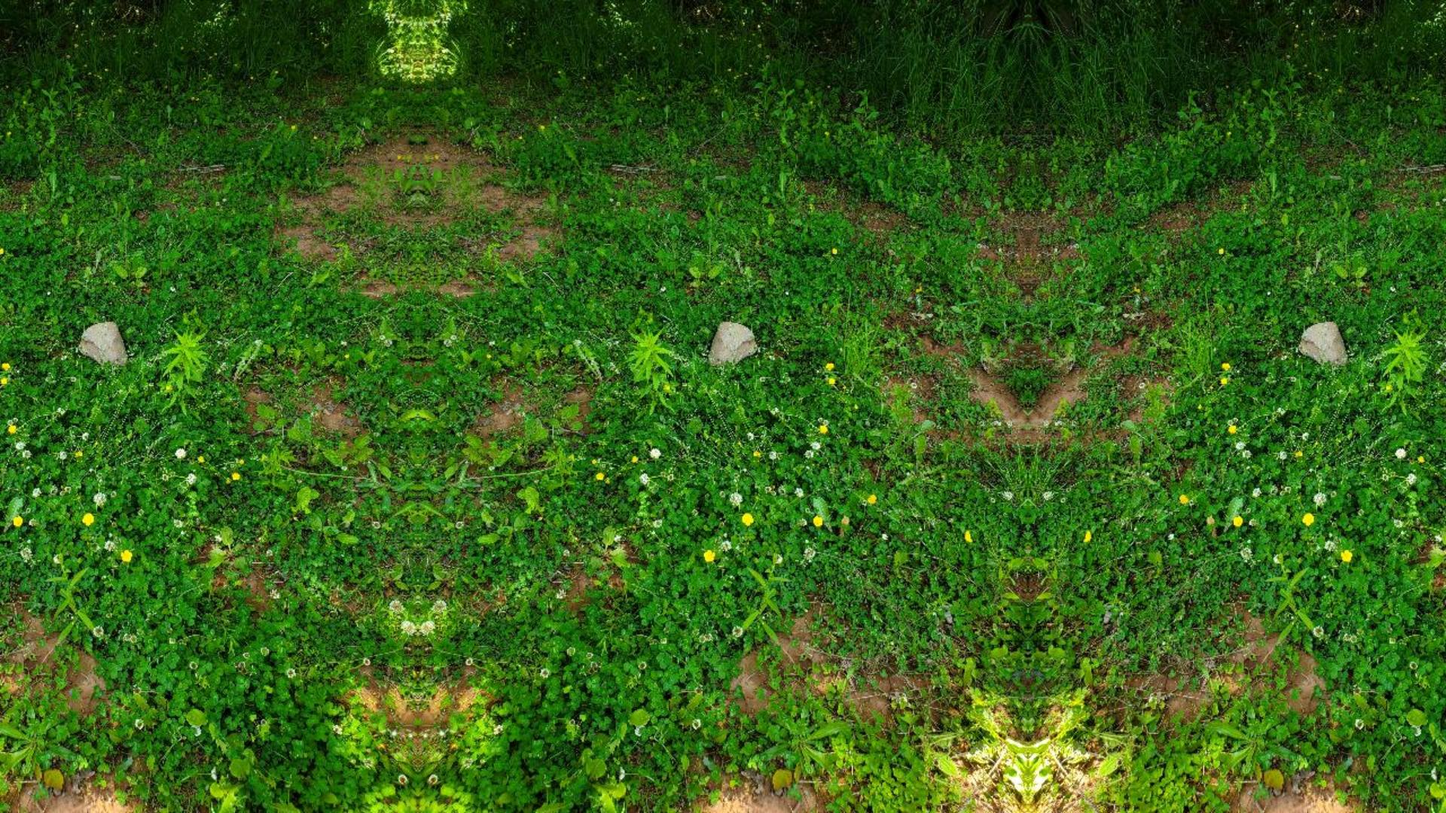rock: (709, 322, 758, 365), (78, 322, 125, 365), (1298, 322, 1345, 365)
